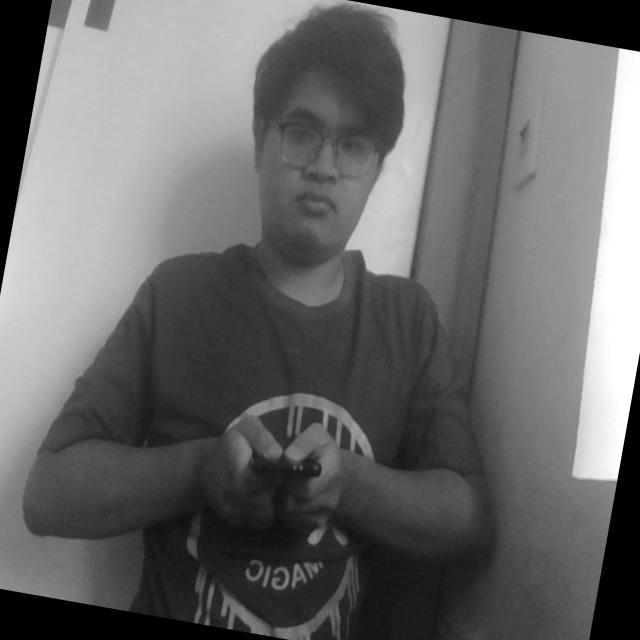phone: (230, 416, 332, 516)
